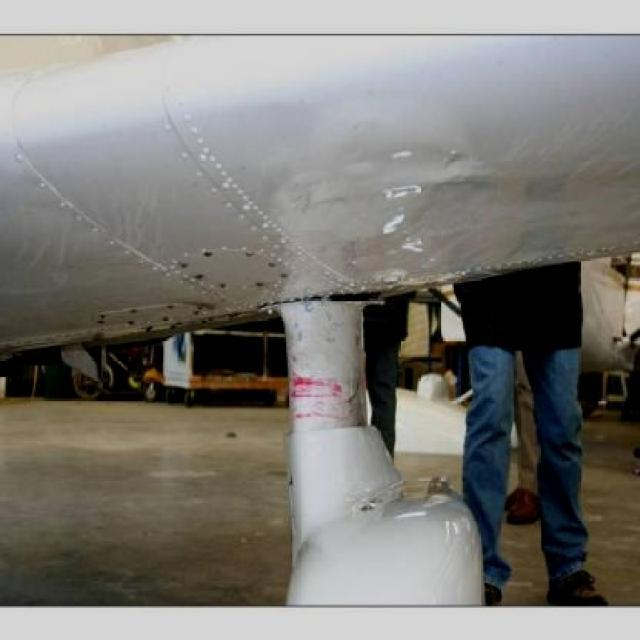dent: (384, 176, 418, 201)
